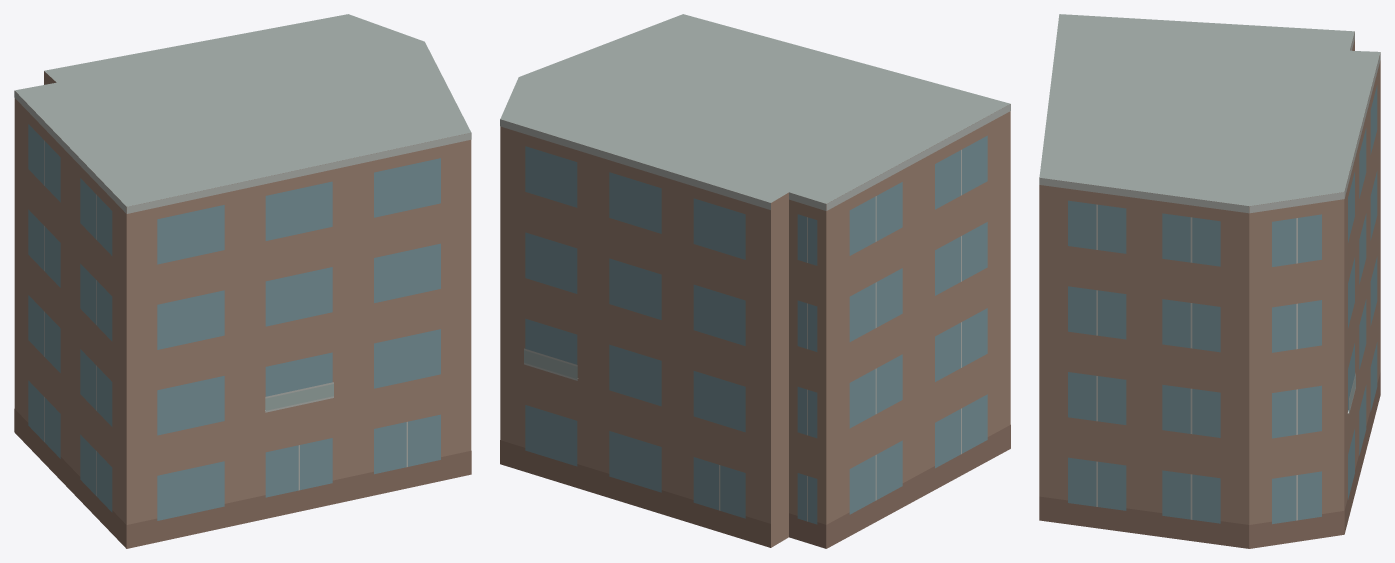
The model's file is survey-upis-32673259.glb.
3 views of the same model, side by side, from view 1: azimuth 30°, elevation 25°; view 2: azimuth 150°, elevation 25°; view 3: azimuth 270°, elevation 25° (orthographic).
Parts seen in each view (by area): view 1: survey-upis-32673259.tmp; view 2: survey-upis-32673259.tmp; view 3: survey-upis-32673259.tmp.
Boxes of the visible parts, left/top/right/bottom form: survey-upis-32673259.tmp: left=14, top=14, right=471, bottom=548; survey-upis-32673259.tmp: left=500, top=14, right=1010, bottom=548; survey-upis-32673259.tmp: left=1039, top=14, right=1380, bottom=548.
Size of the model in its own units: 14.08 by 11.7 by 10.57.
